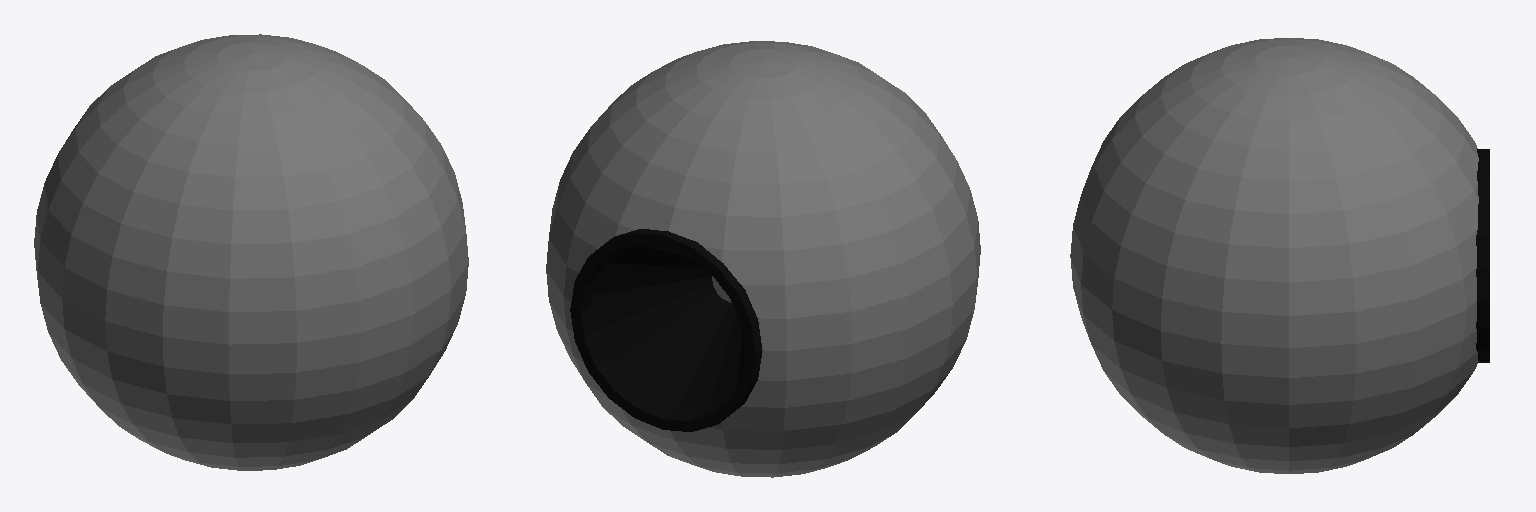
Rendered from WebCam.obj.
The picture shows the model from 3 angles: view 1: azimuth 30°, elevation 25°; view 2: azimuth 150°, elevation 25°; view 3: azimuth 270°, elevation 25°; orthographic projection.
Visible parts, largest first — view 1: polySurface3; view 2: polySurface3; view 3: polySurface3.
Part boxes in pixels (x1,y1,x2,y2): polySurface3: (34, 34, 468, 470); polySurface3: (546, 41, 980, 477); polySurface3: (1070, 38, 1489, 473).
Bounding box in the file's own units: 0.055 × 0.055 × 0.0527.